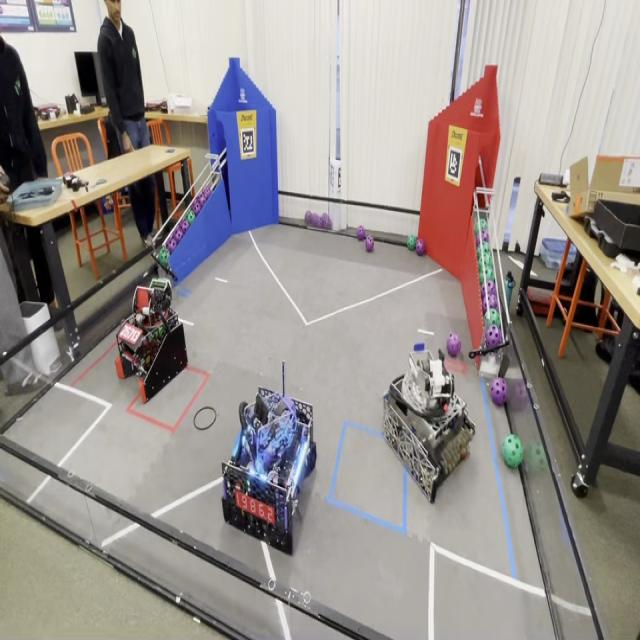artifact_green: (524, 440, 547, 472), (502, 434, 523, 469), (509, 379, 530, 411), (484, 309, 500, 329), (479, 266, 495, 285), (480, 281, 497, 298), (477, 241, 492, 259), (477, 248, 493, 264), (157, 247, 169, 267), (478, 255, 493, 270), (476, 230, 490, 246), (478, 261, 495, 274), (474, 219, 488, 234), (172, 226, 183, 244), (478, 252, 493, 263), (416, 239, 425, 257), (407, 235, 417, 251), (180, 217, 189, 234), (321, 213, 331, 228), (186, 210, 195, 225), (474, 219, 481, 236), (480, 219, 489, 231), (305, 210, 312, 225), (159, 247, 169, 257), (158, 326, 165, 338)
artifact_purple: (508, 380, 529, 410), (491, 377, 507, 406), (486, 326, 503, 349), (446, 332, 461, 356), (482, 294, 497, 314), (481, 281, 497, 298), (476, 229, 489, 247), (166, 238, 177, 253), (180, 219, 190, 235), (170, 233, 181, 247), (192, 198, 201, 215), (416, 239, 425, 255), (365, 236, 374, 252), (201, 186, 209, 202), (174, 228, 183, 242), (321, 218, 331, 230), (171, 229, 179, 244), (204, 185, 212, 200), (481, 229, 490, 242), (200, 191, 207, 207), (357, 226, 365, 240), (322, 213, 329, 228), (312, 214, 320, 227), (198, 194, 205, 207), (305, 210, 311, 225), (326, 217, 332, 229)
